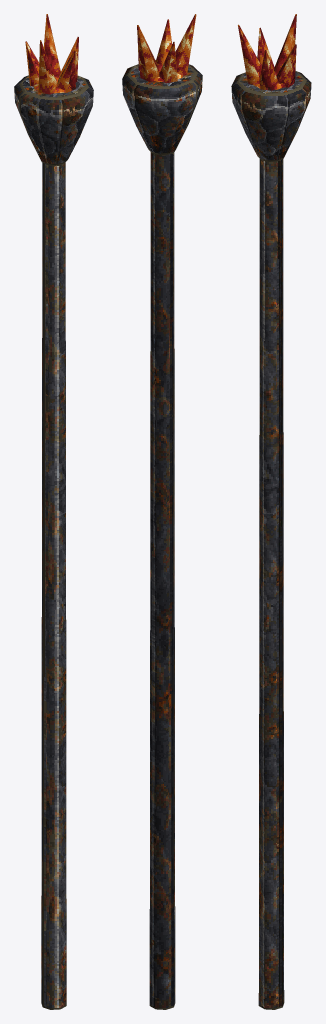
Rendered from brazier_staff.glb.
3 views of the same model, side by side, from view 1: azimuth 30°, elevation 25°; view 2: azimuth 150°, elevation 25°; view 3: azimuth 330°, elevation 25° (orthographic).
Visible parts, largest first — view 1: brazier_staff; view 2: brazier_staff; view 3: brazier_staff.
Boxes of the visible parts, x1,y1,x2,y2 form: brazier_staff: (14, 14, 93, 1009); brazier_staff: (122, 14, 202, 1009); brazier_staff: (231, 14, 311, 1009).
Bounding box in the file's own units: 0.092 × 1.24 × 0.0875.
1 material, 1 textured.
